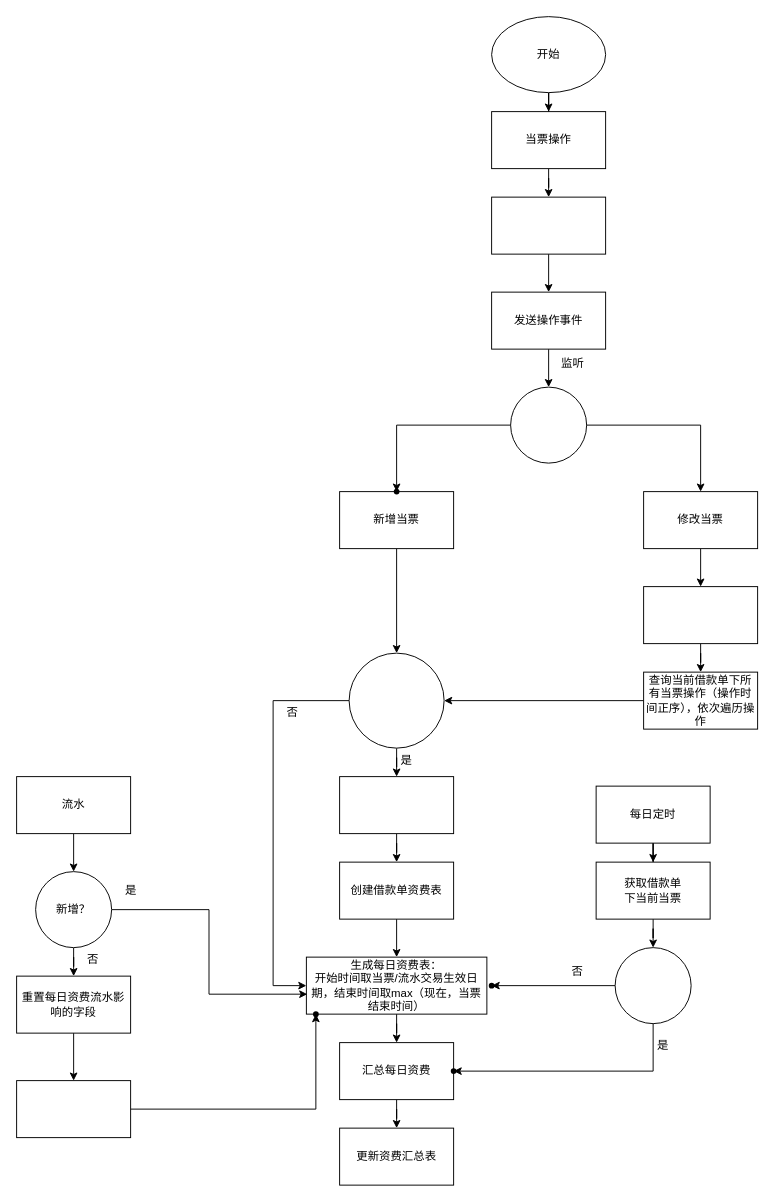
The diagram is 774 pixels wide and 1202 high, and some of its shapes have lost their labels. Here are the shapes that lost their labels. From the top down, the centre of each, then its label:
the point at 548,225: 初始化借款单
the point at 548,424: 新增还是修改?
the point at 700,615: 删除当前借款单的资费汇总表与每日资费
the point at 396,700: 判断是否是建当
the point at 396,805: 建当
the point at 652,985: 当票已经结束，但是没有操作
the point at 73,1109: 查询当前借款单关联的所有流水，按交易日正序返回，依次遍历流水
